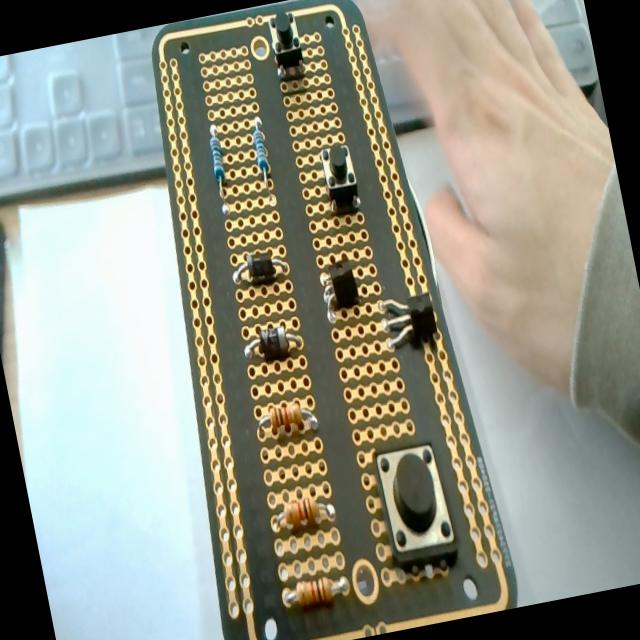diode: (234, 278, 298, 332), (241, 322, 304, 364), (230, 248, 290, 288)
resistor: (270, 492, 336, 536), (256, 400, 320, 442), (284, 572, 349, 612), (204, 124, 234, 210), (248, 116, 274, 180)
switch: (373, 439, 459, 565), (317, 140, 363, 216), (266, 8, 308, 82)
transistor: (377, 290, 441, 352), (314, 256, 364, 324)
